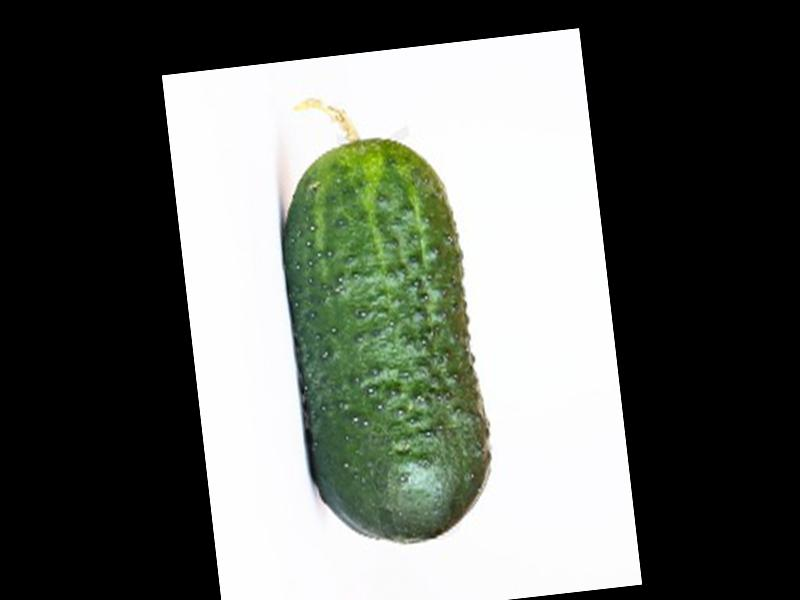Cucumber: (265, 81, 503, 551)
